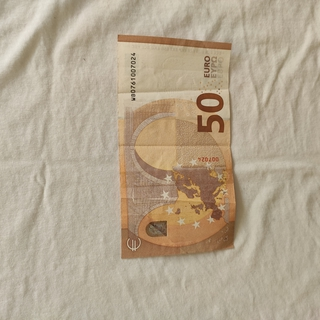50EUROBack: (115, 33, 237, 259)
